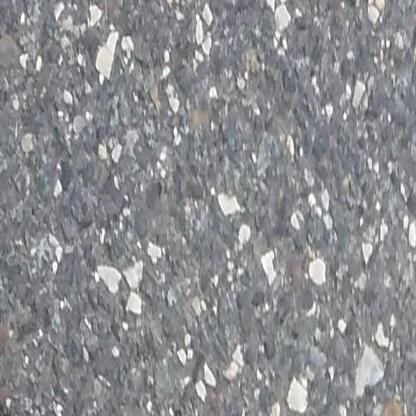Cracks: (0, 355, 38, 416)
